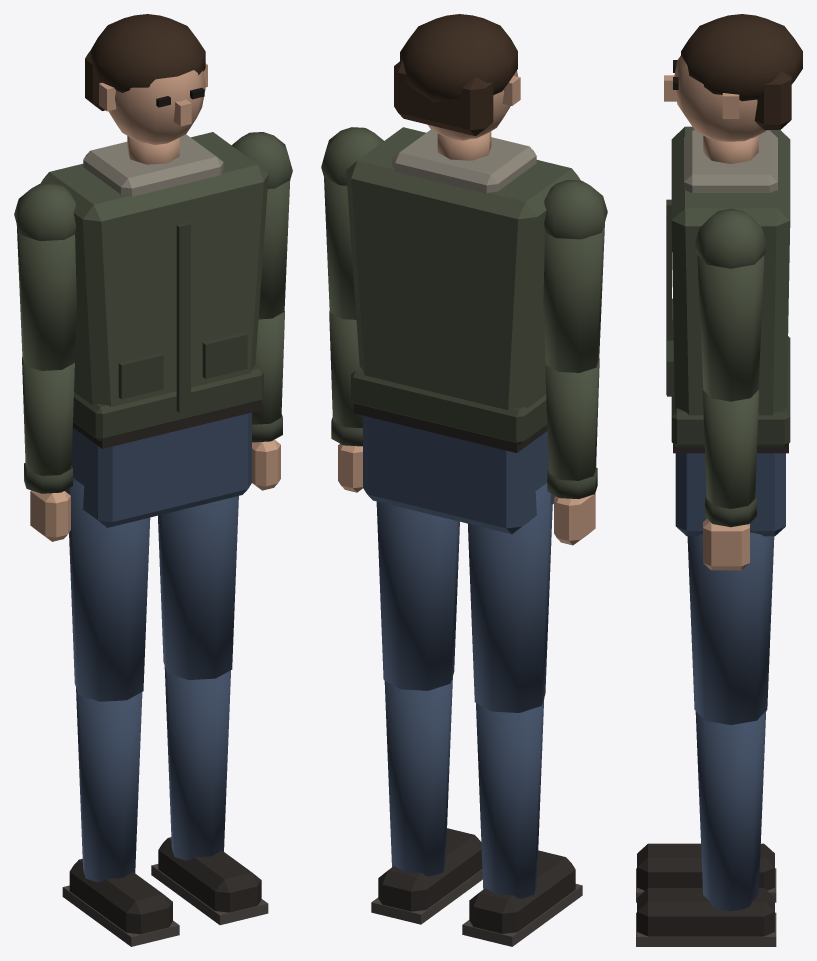
Rendered from player.glb.
The picture shows the model from 3 angles, left to right: view 1: azimuth 30°, elevation 25°; view 2: azimuth 150°, elevation 25°; view 3: azimuth 270°, elevation 25°; orthographic projection. The views are drawn at different scales.
Parts seen in each view (by area): view 1: Torso, ShinR, ShinL, Hips, LegR, Head, LegL, ArmR, ForearmR, ArmL, ForearmL; view 2: Torso, ShinR, Hips, ShinL, LegR, Head, LegL, ArmR, ForearmR, ArmL, ForearmL; view 3: Torso, ShinL, Head, LegL, ArmL, ForearmL, Hips, ShinR.
Part boxes in pixels (left/top/right/bottom): Torso: left=40, top=132, right=268, bottom=441; ShinR: left=62, top=688, right=179, bottom=946; ShinL: left=151, top=666, right=268, bottom=925; Hips: left=65, top=400, right=261, bottom=527; LegR: left=69, top=478, right=150, bottom=701; Head: left=85, top=14, right=207, bottom=164; LegL: left=158, top=496, right=238, bottom=679; ArmR: left=14, top=183, right=76, bottom=370; ForearmR: left=22, top=357, right=74, bottom=541; ArmL: left=231, top=132, right=292, bottom=319; ForearmL: left=252, top=311, right=284, bottom=490; Torso: left=346, top=127, right=580, bottom=444; ShinR: left=462, top=698, right=582, bottom=946; Hips: left=353, top=403, right=555, bottom=534; ShinL: left=371, top=676, right=482, bottom=924; LegR: left=468, top=483, right=552, bottom=712; Head: left=394, top=14, right=520, bottom=160; LegL: left=376, top=501, right=459, bottom=690; ArmR: left=543, top=180, right=607, bottom=372; ForearmR: left=545, top=358, right=599, bottom=545; ArmL: left=321, top=127, right=383, bottom=319; ForearmL: left=329, top=311, right=362, bottom=492; Torso: left=666, top=126, right=790, bottom=447; ShinL: left=636, top=711, right=776, bottom=946; Head: left=664, top=14, right=802, bottom=163; LegL: left=687, top=532, right=774, bottom=724; ArmL: left=694, top=208, right=767, bottom=401; ForearmL: left=702, top=390, right=758, bottom=570; Hips: left=673, top=443, right=788, bottom=536; ShinR: left=636, top=843, right=776, bottom=902.
Size of the model in its own units: 0.582 by 1.78 by 0.3026.
